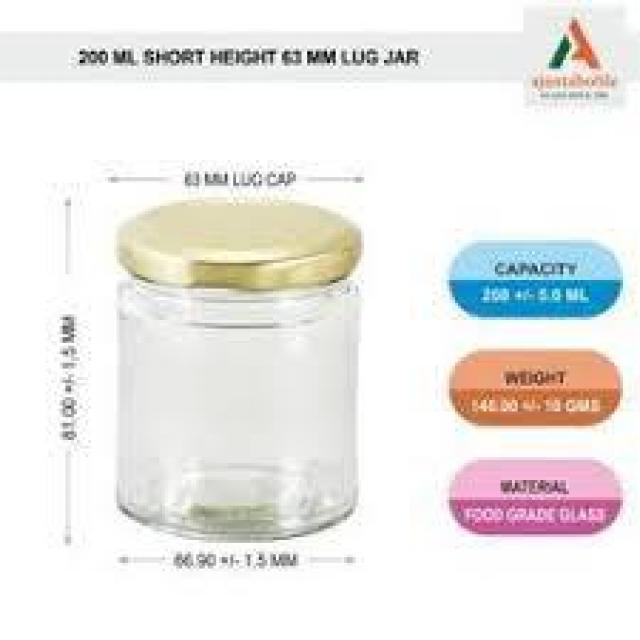non-organic waste: (112, 196, 368, 541)
